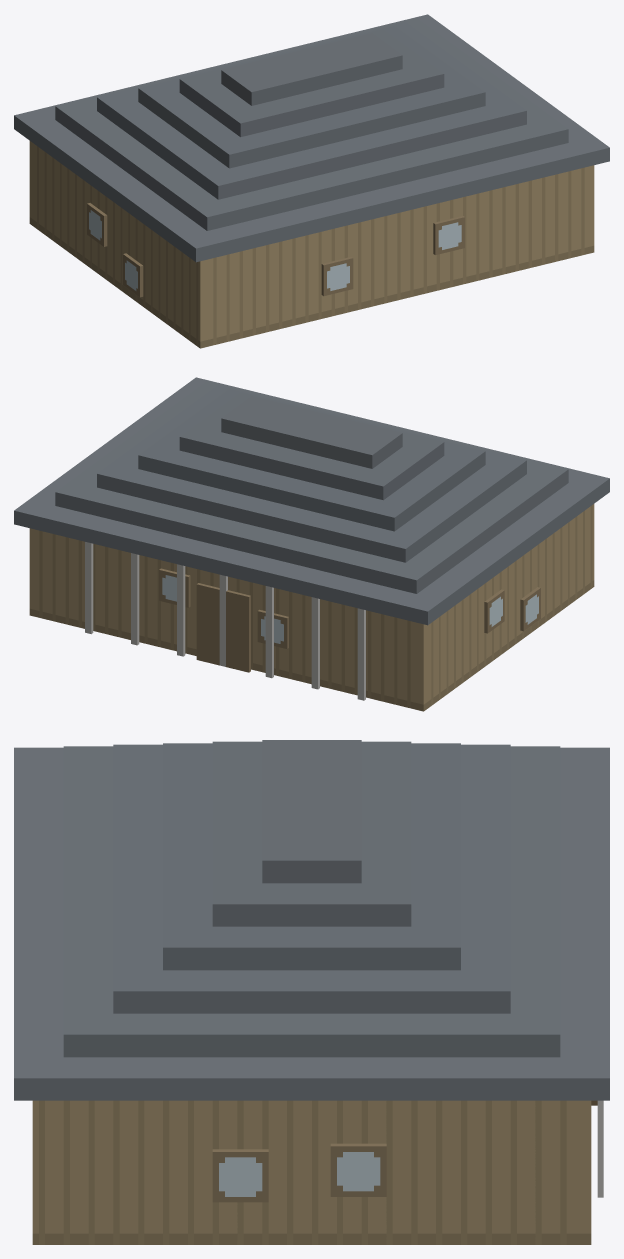
The model's file is casino_02.glb.
3 renders of one model, top to bottom at view 1: azimuth 30°, elevation 25°; view 2: azimuth 150°, elevation 25°; view 3: azimuth 270°, elevation 25°, orthographic. The views are drawn at different scales.
Parts seen in each view (by area): view 1: casino_02; view 2: casino_02; view 3: casino_02.
Boxes of the visible parts, x1=… form: casino_02: x1=14, y1=14, x2=609, y2=348; casino_02: x1=14, y1=377, x2=609, y2=711; casino_02: x1=14, y1=740, x2=609, y2=1244.
Size of the model in its own units: 12.6 by 5.1 by 9.6.
